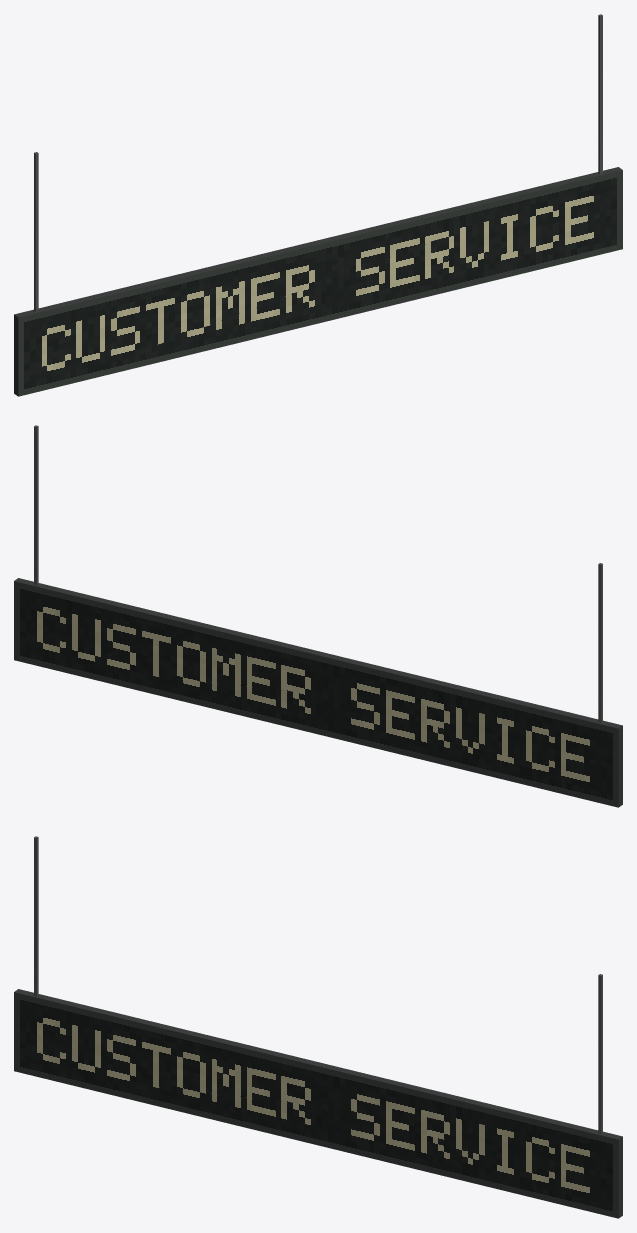
Rendered from sign_customer_service.glb.
The picture shows the model from 3 angles, top to bottom: view 1: azimuth 30°, elevation 25°; view 2: azimuth 150°, elevation 25°; view 3: azimuth 330°, elevation 25°; orthographic projection.
Parts seen in each view (by area): view 1: SignCustomerService; view 2: SignCustomerService; view 3: SignCustomerService.
Part boxes in pixels (x1,y1,x2,y2): SignCustomerService: (14, 14, 622, 396); SignCustomerService: (14, 425, 622, 807); SignCustomerService: (14, 836, 622, 1218).
Size of the model in its own units: 2.4 by 0.9 by 0.03.
Materials: 1 (1 with a texture image).
